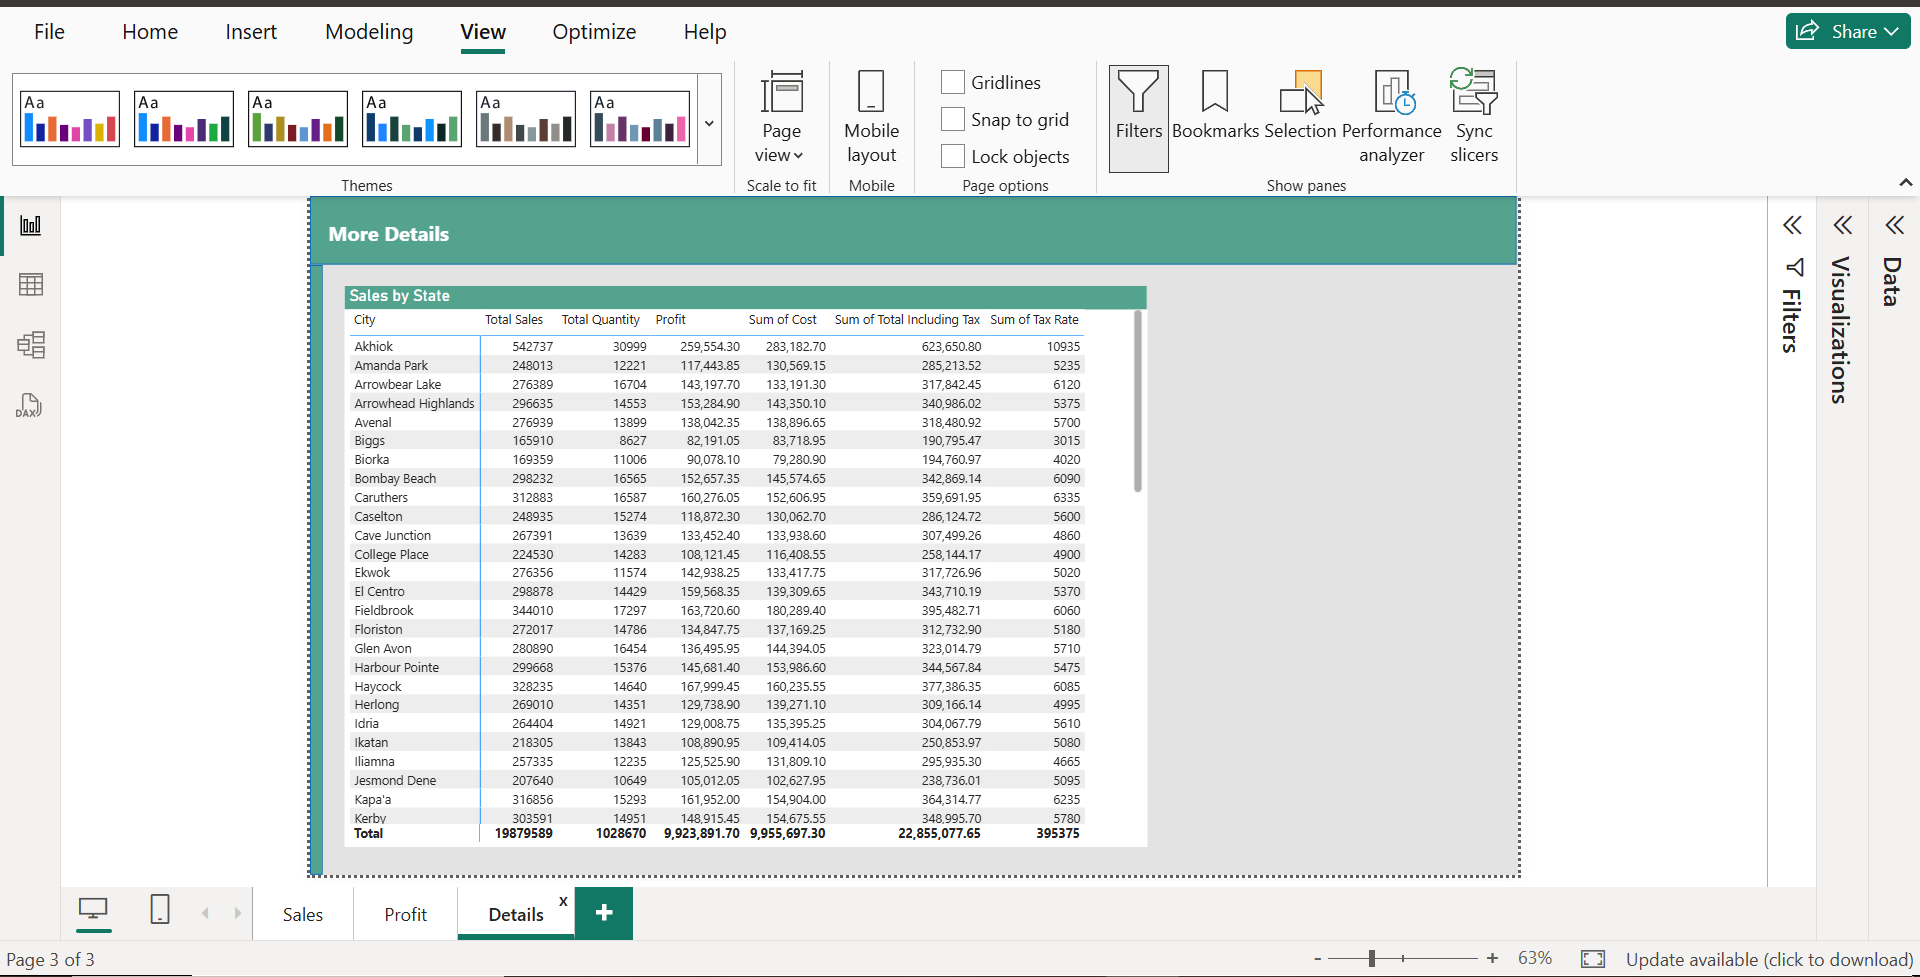

What the dashboard file says about the page in this screenshot:
{"tool":"powerbi","page":{"name":"Details","canvas":[1280,720],"ordinal":2},"visuals":[{"type":"shape","box":[0,0,1279.5,72.7],"z":0},{"type":"shape","box":[0,72.7,13.6,646.6],"z":1000},{"type":"textbox","box":[14.3,19.1,283.1,39.8],"z":2000},{"type":"pivotTable","title":"Sales by State","fields":{"Values":["Sum(FactSale.Total Excluding Tax)","Sum(FactSale.Quantity)","Sum(FactSale.Profit)","Sum(FactSale.Cost)","Sum(FactSale.Total Including Tax)","Sum(FactSale.Tax Rate)"],"Rows":["DimCity.State Province Hierarchy.State Province","DimCity.State Province Hierarchy.City"]},"box":[254.9,89.6,1001.8,629.4],"z":3000},{"type":"shape","box":[15.1,71.8,223,648.2],"z":3500},{"type":"slicer","fields":{"Values":["DimCity.City"]},"box":[13.9,141.4,221.1,85.6],"z":4000},{"type":"slicer","fields":{"Values":["DimEmployee.Employee"]},"box":[15.9,314.7,221.1,81.7],"z":5000},{"type":"slicer","fields":{"Values":["DimCity.State Province"]},"box":[13.9,227.1,221.1,87.6],"z":6000},{"type":"slicer","fields":{"Values":["DimCustomers.Buying Group"]},"box":[15.9,396.4,221.1,87.6],"z":7000},{"type":"textbox","box":[14.3,73.2,222.7,66.8],"z":8001},{"type":"pageNavigator","box":[478.1,11.3,640.6,49.1],"z":8002}]}

Visuals, with their boxes on the page's 1280x720 design canvas (x1, y1, x2, y2). These are canvas units, not pixel positions in the 1920x977 screenshot, which may show the page scaled, cropped or inside an application window:
shape: 0, 0, 1280, 73
shape: 0, 73, 14, 719
textbox: 14, 19, 297, 59
"Sales by State" pivotTable: 255, 90, 1257, 719
shape: 15, 72, 238, 720
slicer - DimCity.City: 14, 141, 235, 227
slicer - DimEmployee.Employee: 16, 315, 237, 396
slicer - DimCity.State Province: 14, 227, 235, 315
slicer - DimCustomers.Buying Group: 16, 396, 237, 484
textbox: 14, 73, 237, 140
pageNavigator: 478, 11, 1119, 60
